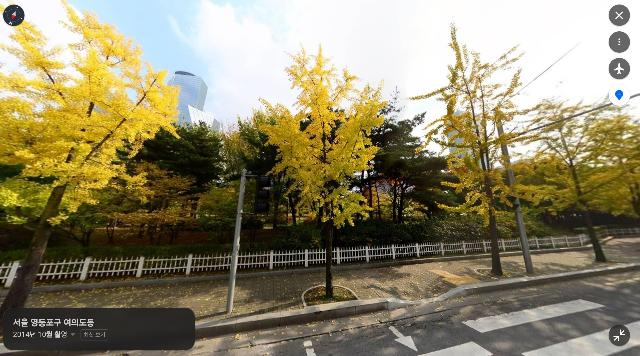ginkgo: (0, 0, 184, 317), (406, 19, 558, 278), (252, 41, 391, 299), (519, 94, 640, 264)
other: (115, 116, 232, 235)
